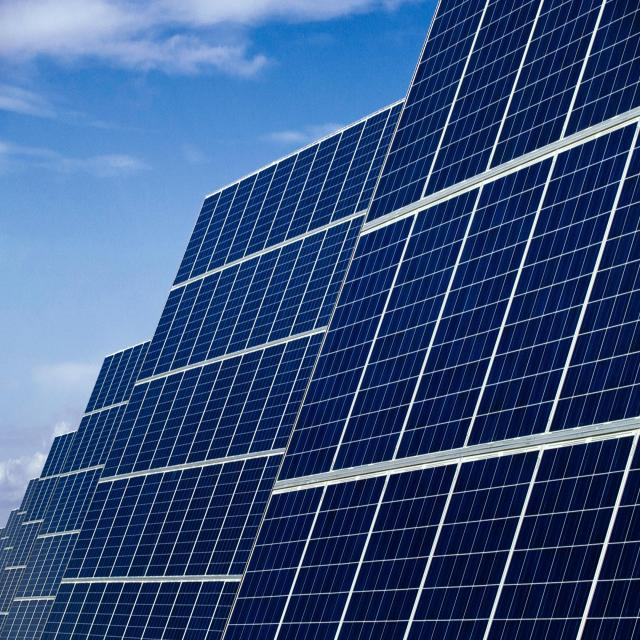Non Defective: (206, 199, 520, 598)
